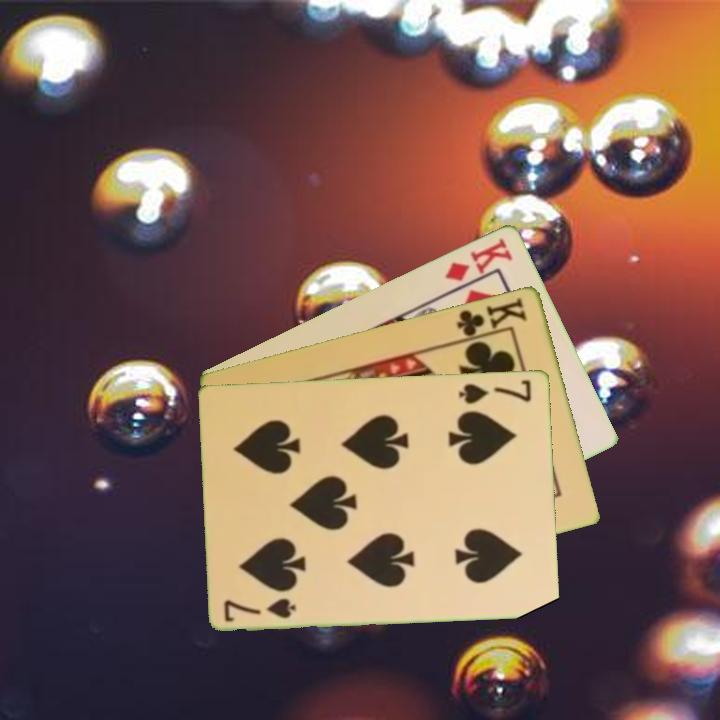7s: (455, 375, 535, 406), (221, 594, 299, 625)
Kc: (453, 293, 531, 343)
Kd: (441, 234, 516, 284)
